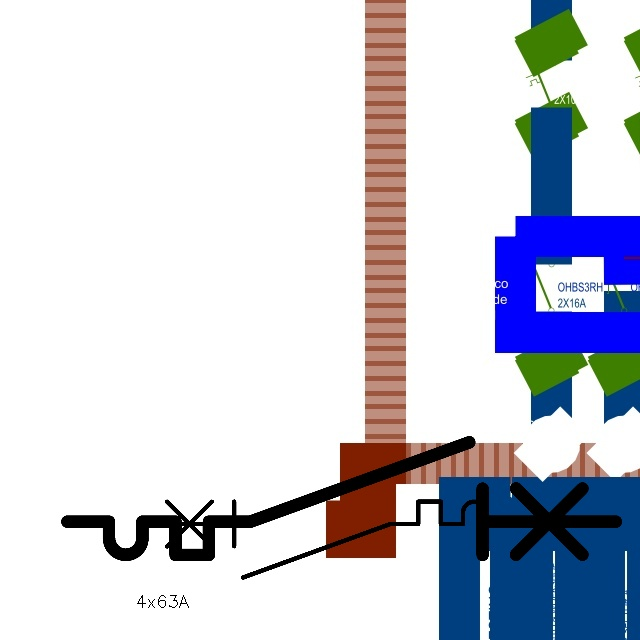interruptor_termomagnetico: (53, 428, 630, 569), (135, 492, 523, 587)
